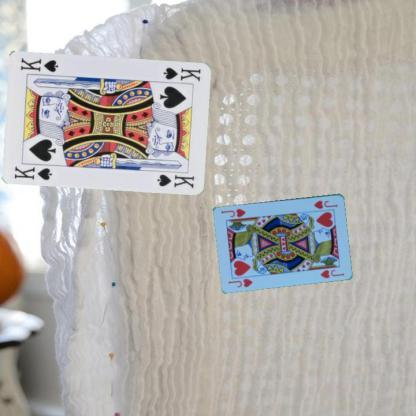Jh: (225, 276, 254, 288), (310, 198, 339, 209)
Ks: (160, 64, 202, 83), (12, 162, 54, 181)
